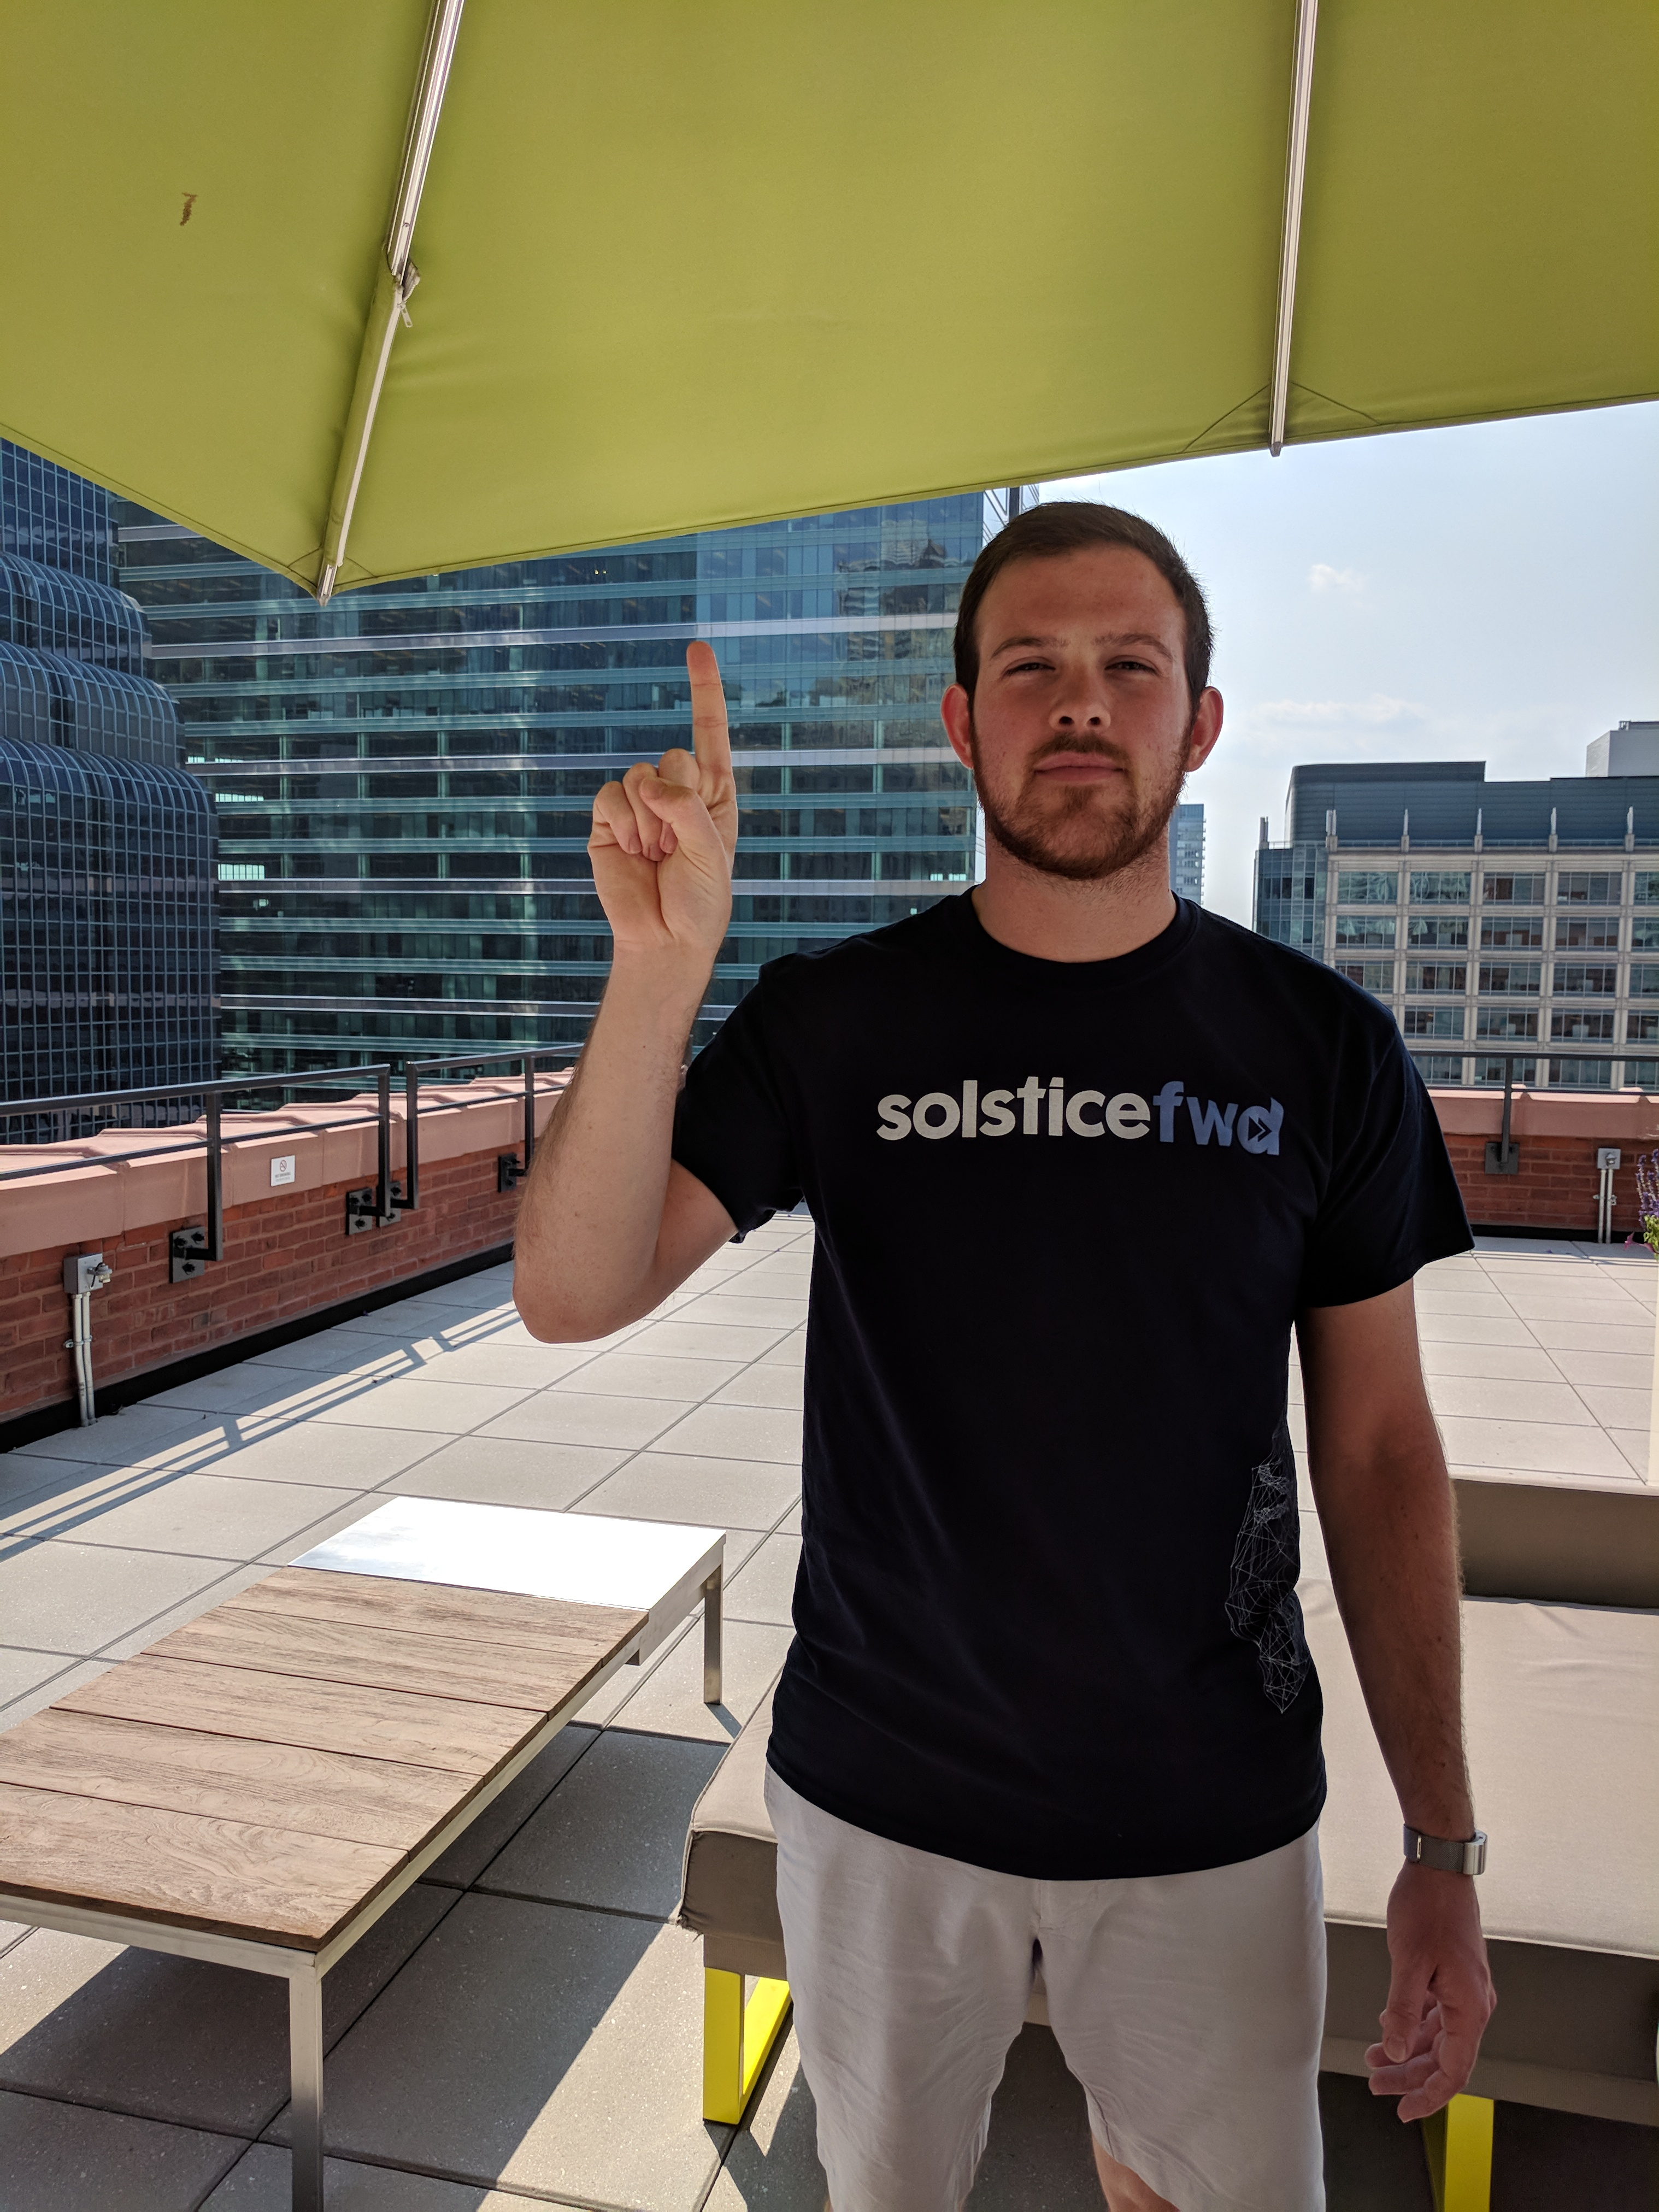d: (561, 636, 753, 977)
